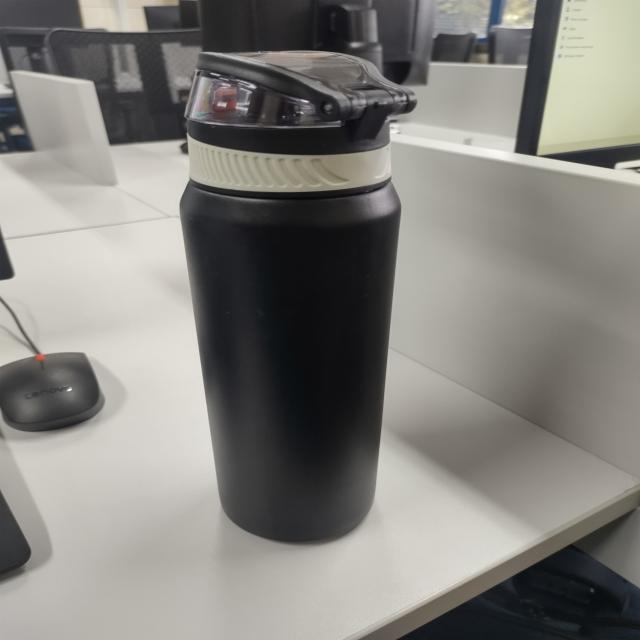Garrafa: (141, 37, 421, 551)
